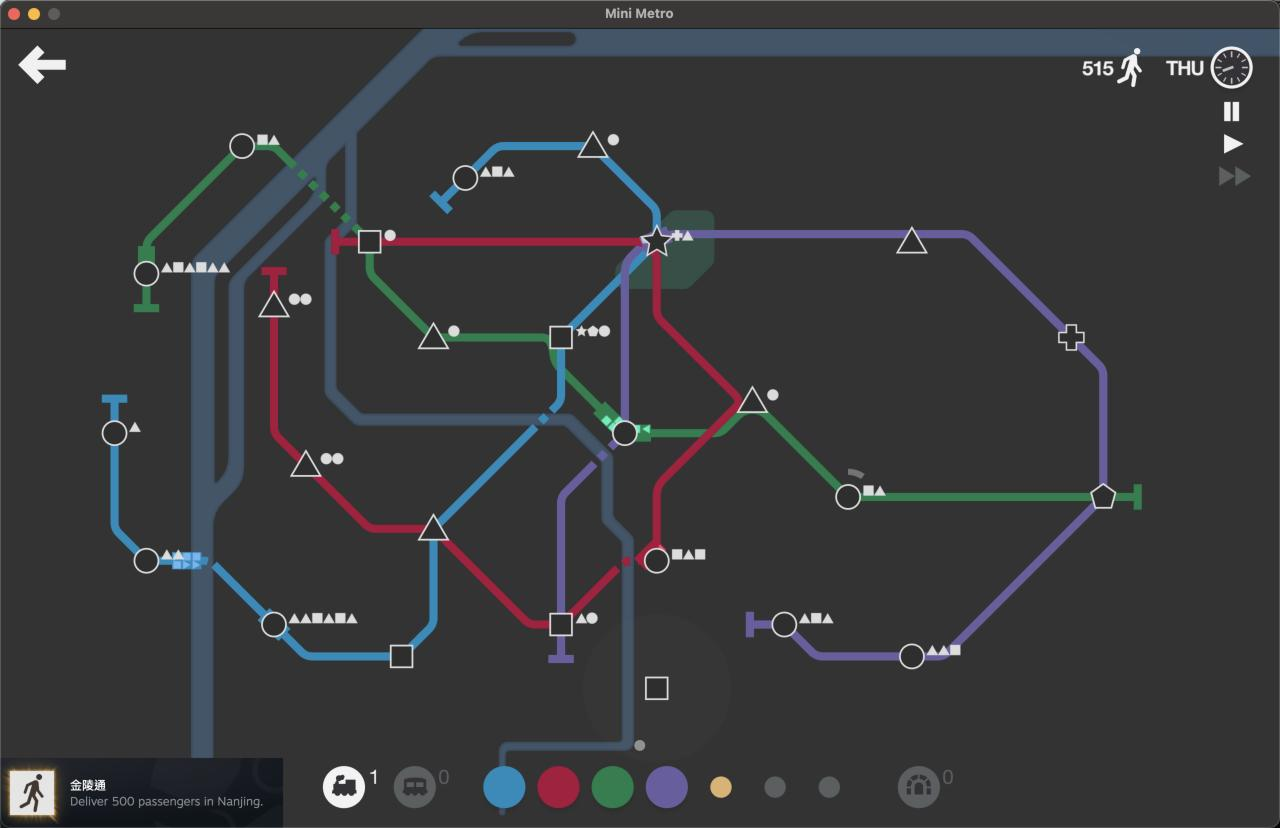CIRCLE: (260, 610, 287, 639), (899, 642, 926, 670), (835, 483, 862, 511), (643, 546, 670, 574), (133, 259, 160, 287), (228, 132, 255, 160), (101, 419, 128, 447), (133, 547, 160, 574), (611, 420, 638, 447), (772, 611, 798, 638), (452, 164, 478, 191)
CROSS: (1057, 323, 1085, 351)
PENTAGON: (1090, 483, 1116, 509)
SQUARE: (644, 675, 670, 701), (549, 611, 574, 638), (548, 324, 573, 349), (389, 643, 414, 668), (358, 229, 382, 254)
STAR: (641, 225, 673, 257)
TRIANGLE: (417, 511, 451, 542), (416, 321, 451, 351), (289, 448, 322, 479), (257, 289, 291, 319), (576, 129, 608, 159), (895, 226, 928, 255), (737, 385, 768, 414)
